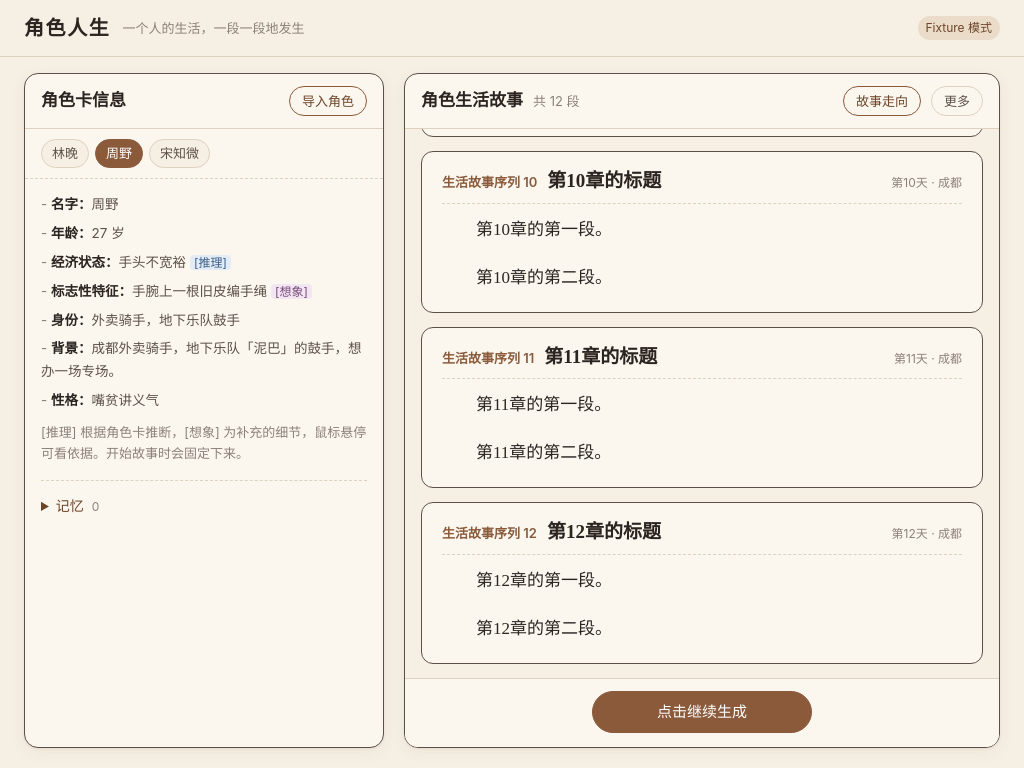
Navigating long stories › jumps from the table of contents in the 更多 menu
(page scrolled)
Click the button "更多". click: click(957, 101)
box: [931,86,983,116]
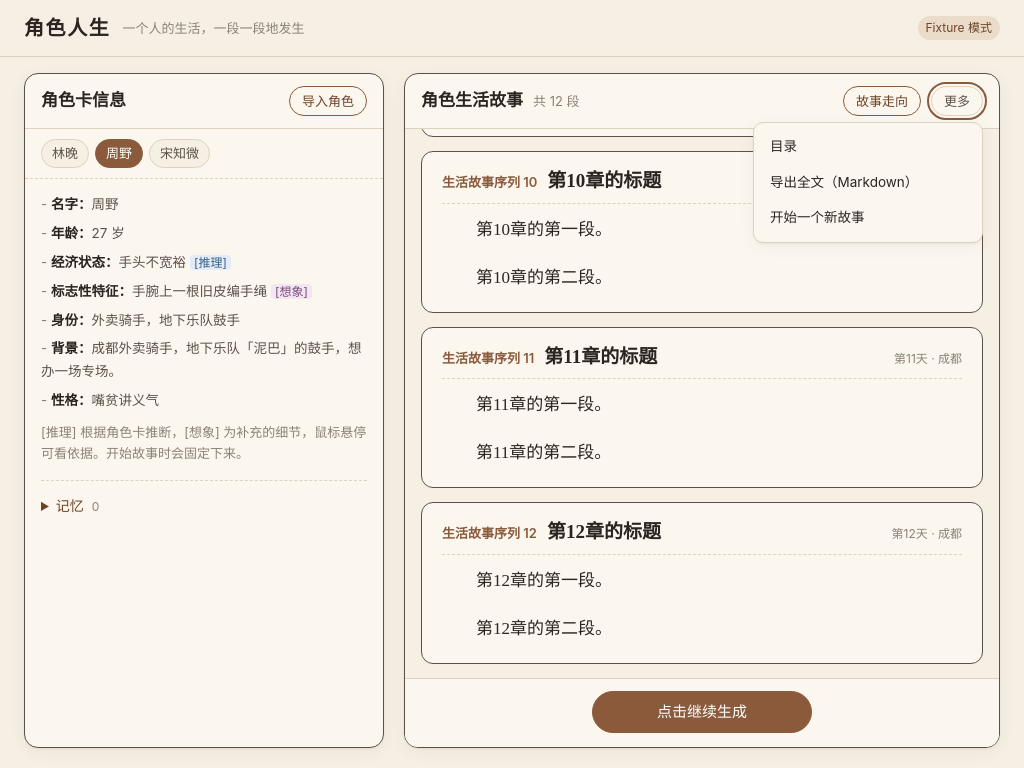
Click the menu item "目录". click: click(868, 147)
box: [760,129,976,165]
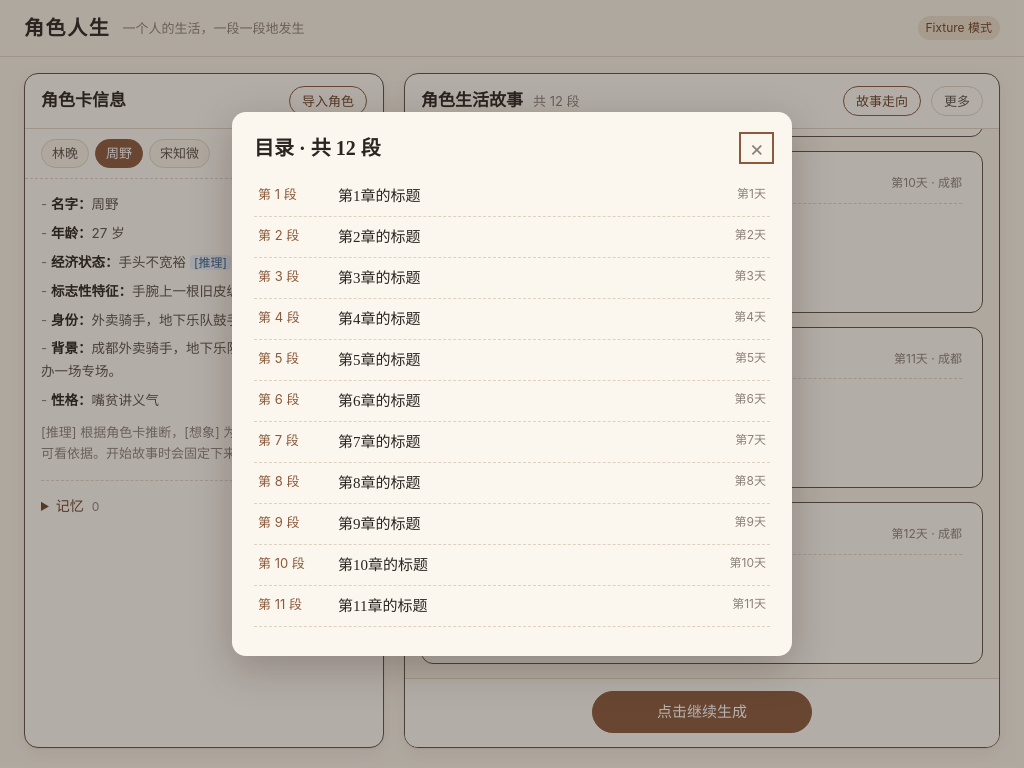
Click the button "第 1 段 第1章的标题 第1天". click: click(379, 196)
box: [254,176,770,217]
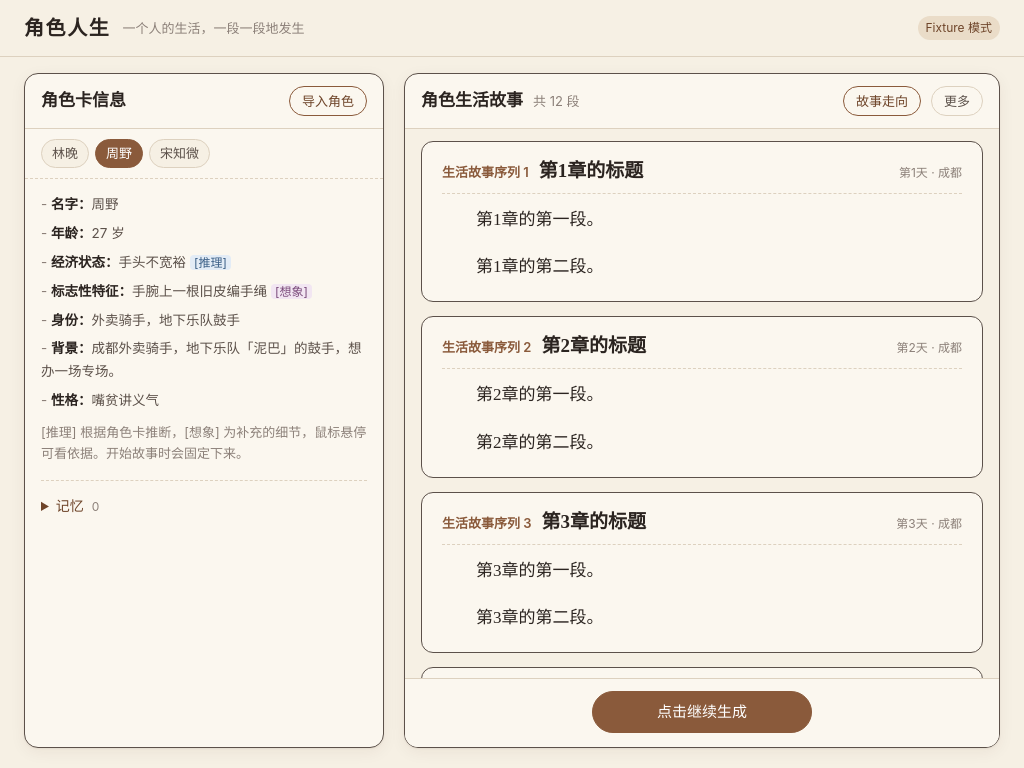
Result: the heading "第1章的标题" is shown at [539,158,643,185]
